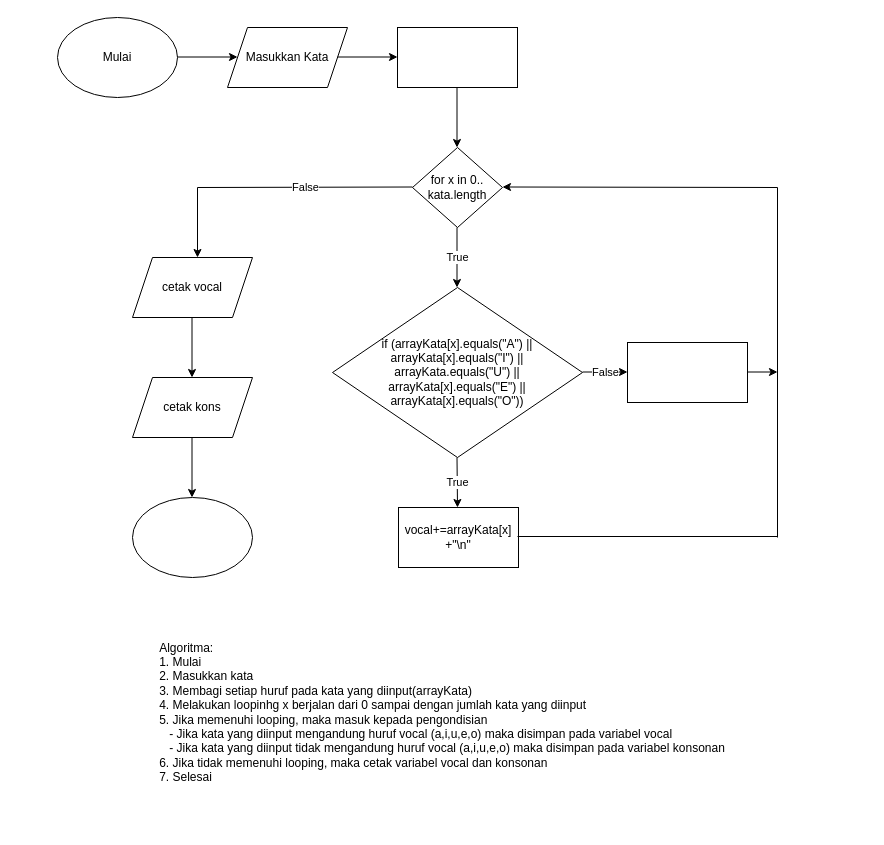
This 884x845 diagram has some shape labels left out. Each missing label, with the box of its shape:
kons+=arrayKata[x] +"\n": (626, 342, 748, 402)
Selesai: (132, 496, 252, 578)
Split setiap huruf dari kata(arrayKata): (396, 26, 518, 88)
